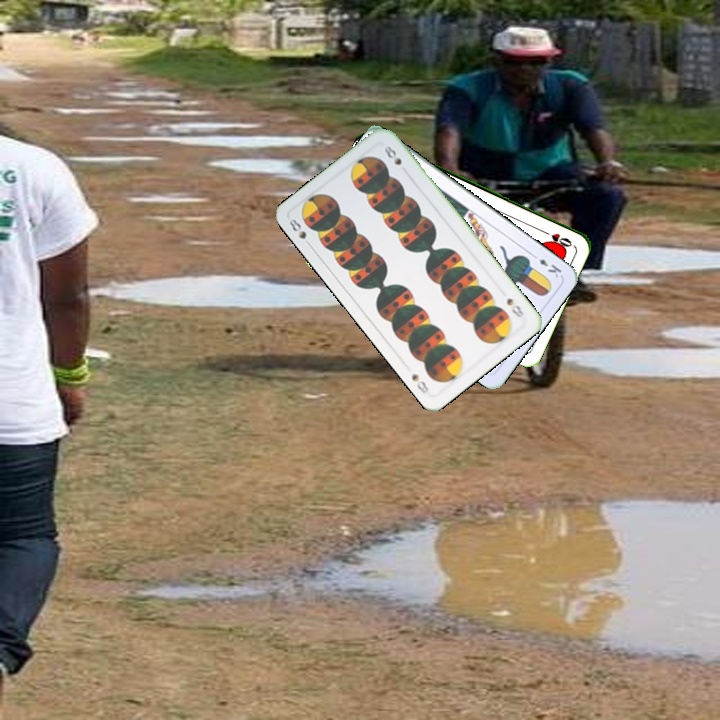EK: (528, 250, 564, 280)
HO: (537, 226, 575, 249)
S8: (285, 214, 315, 250), (503, 294, 527, 320)
